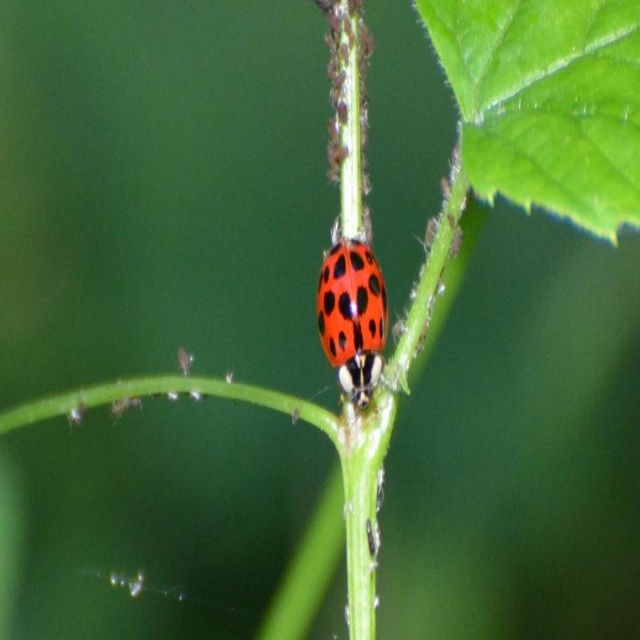Ladybug: (316, 231, 389, 413)
